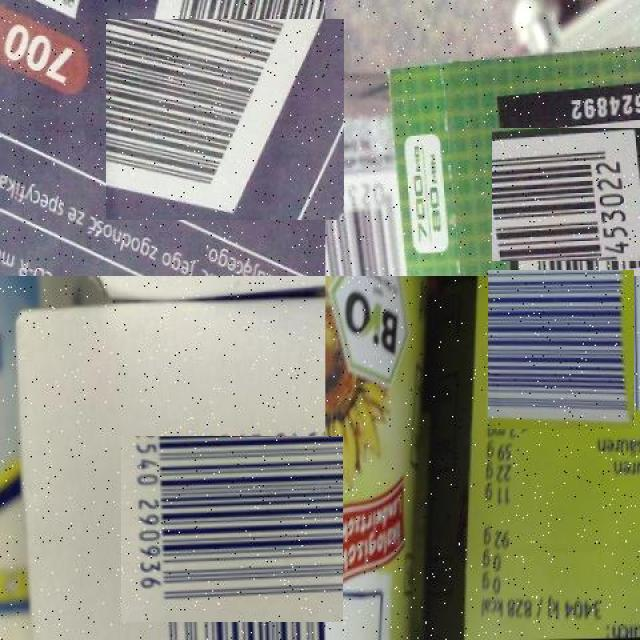Barcode: (114, 10, 335, 229), (130, 426, 334, 631), (484, 273, 637, 426), (499, 121, 640, 269)
